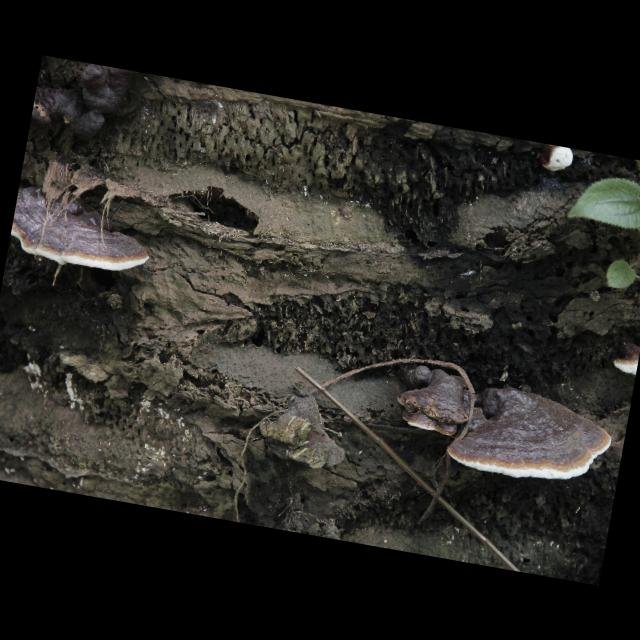ganoderma: (444, 378, 618, 494), (8, 185, 159, 281), (30, 56, 135, 149), (389, 361, 477, 440), (611, 340, 640, 377)
primordium: (538, 144, 576, 176)
